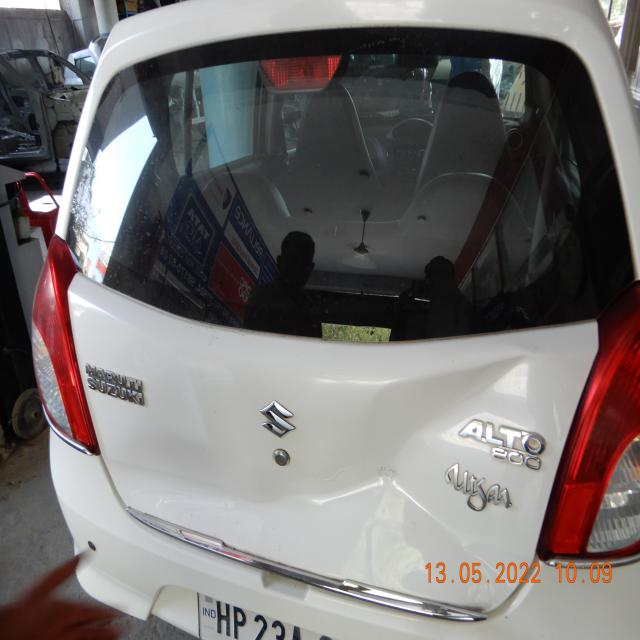damage: (93, 308, 552, 586)
